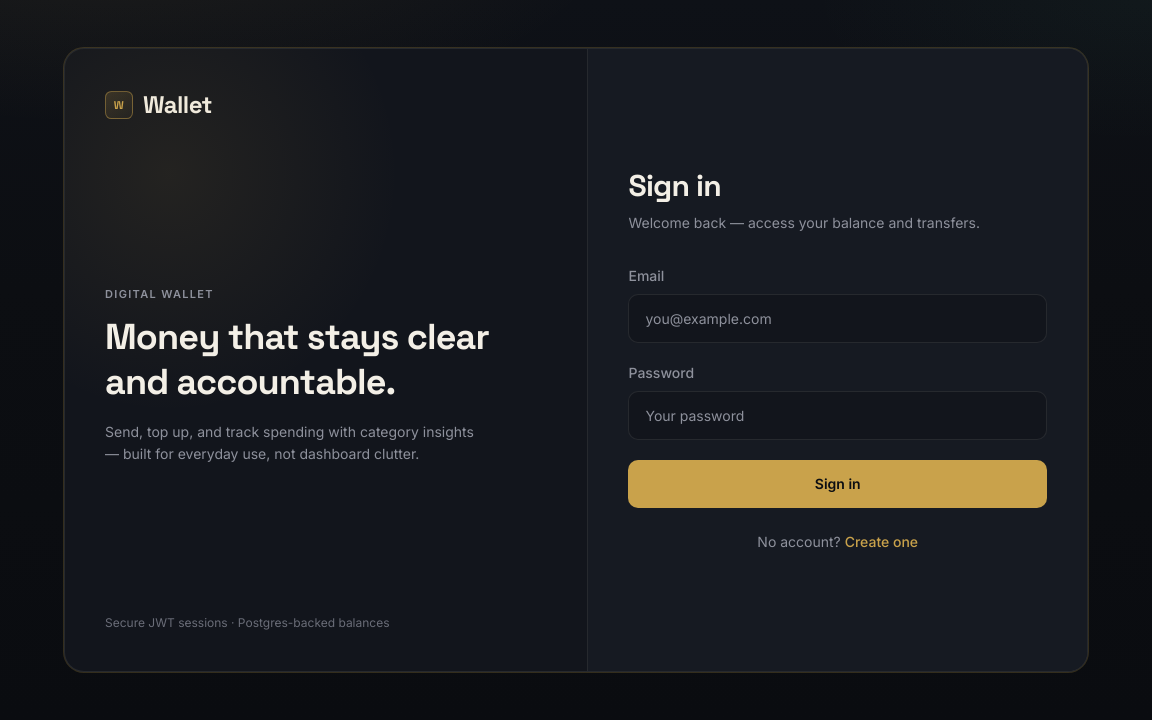
Test: Login form validation › reports both fields when the form is submitted empty
Click the button "Sign in". click: click(838, 484)
box: [628,460,1047,508]
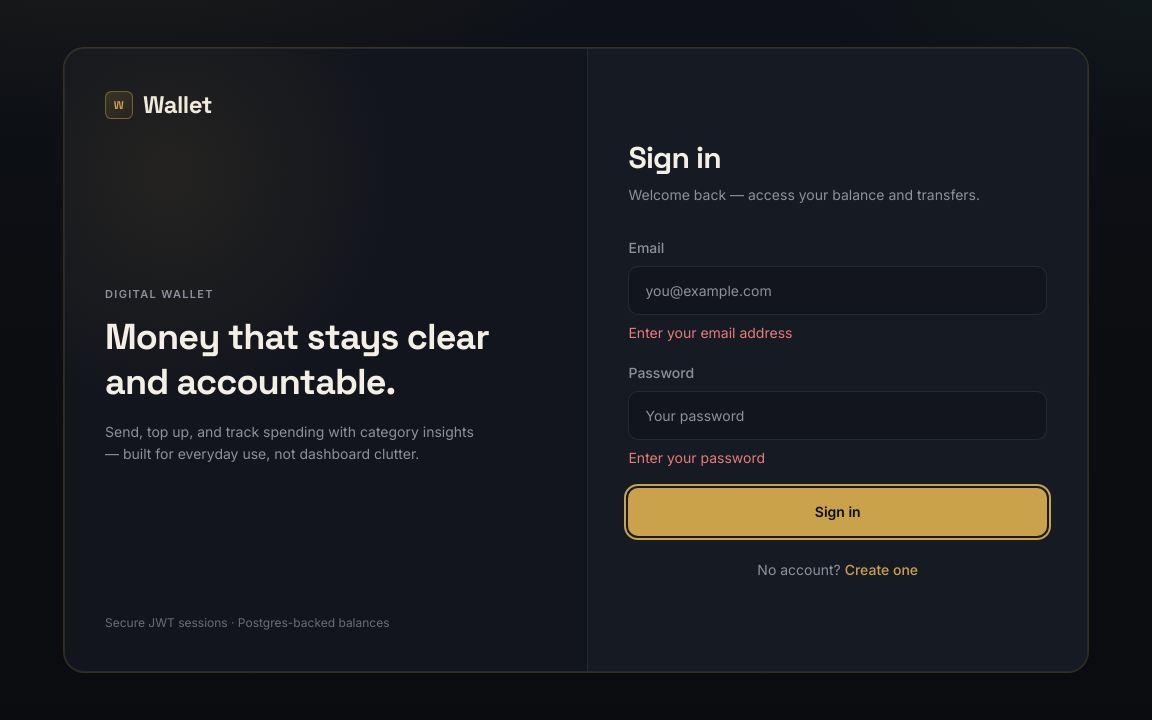
Result: the text "Enter your email address" is shown at [628,324,792,341]
Result: the text "Enter your password" is shown at [628,449,765,466]
